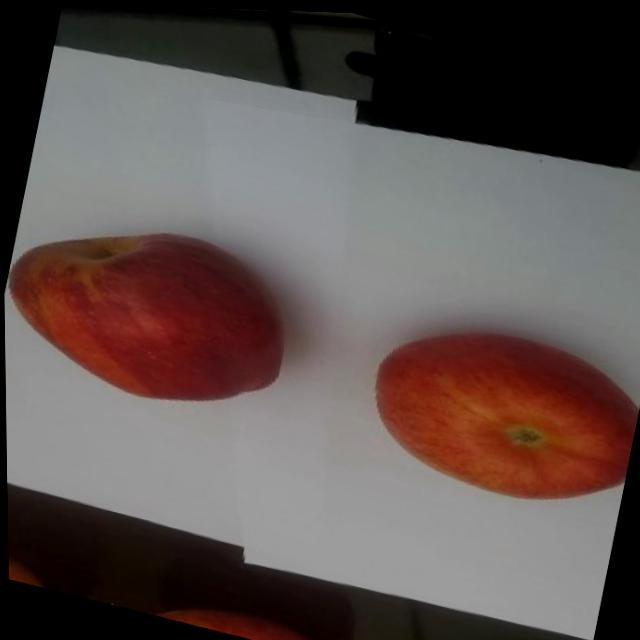Apple: (2, 188, 313, 432), (351, 297, 640, 521)
